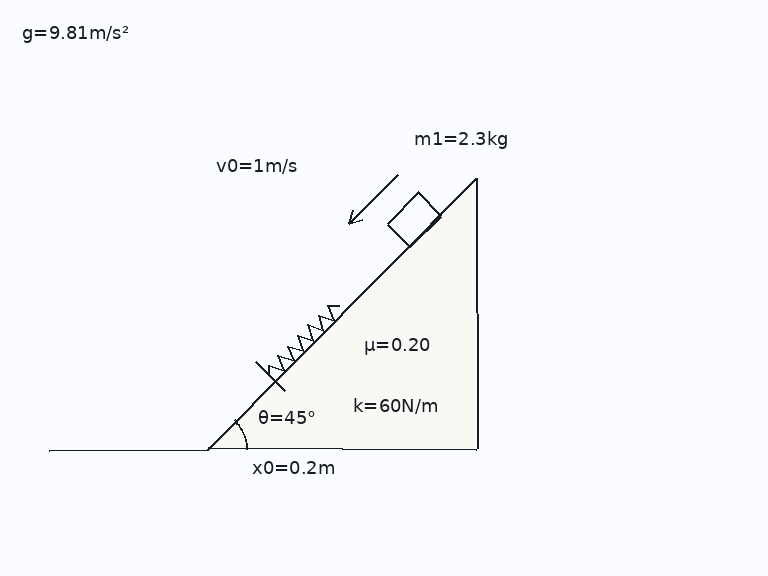block: (385, 191, 443, 249)
ramp: (205, 177, 479, 451)
spring: (266, 303, 340, 377)
